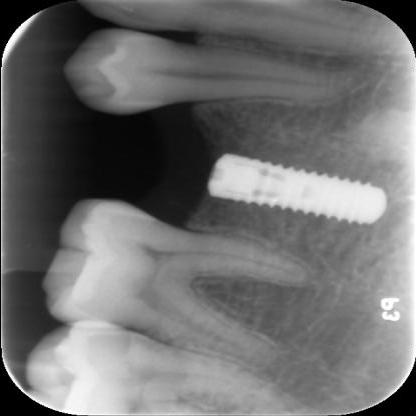ITI: (202, 130, 384, 233)
